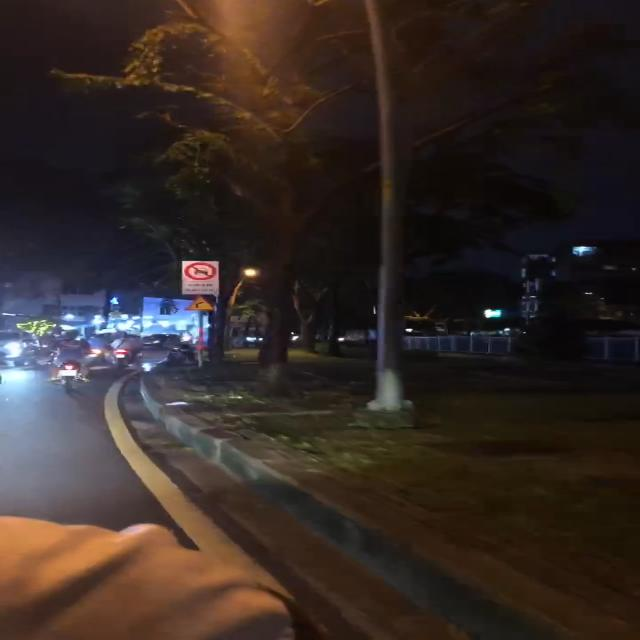Bien bao cam xe oto: (182, 261, 214, 281)
Bien bao cho ngoat nguy hiem: (185, 296, 217, 311)
